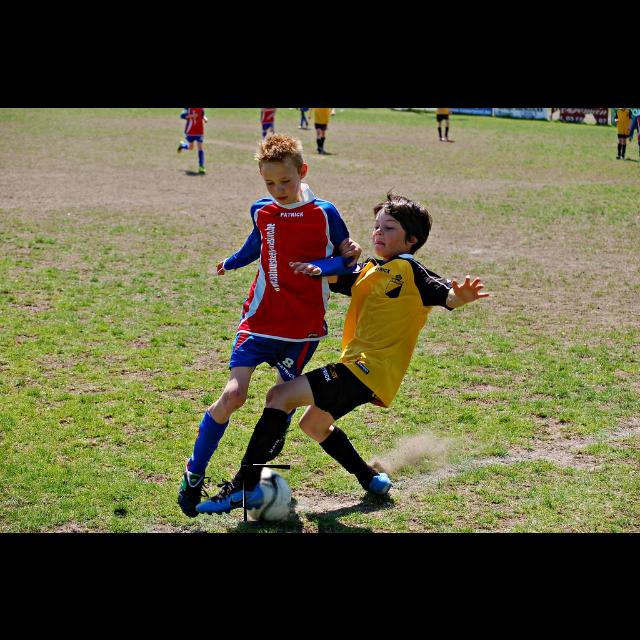Football: (244, 465, 290, 521)
